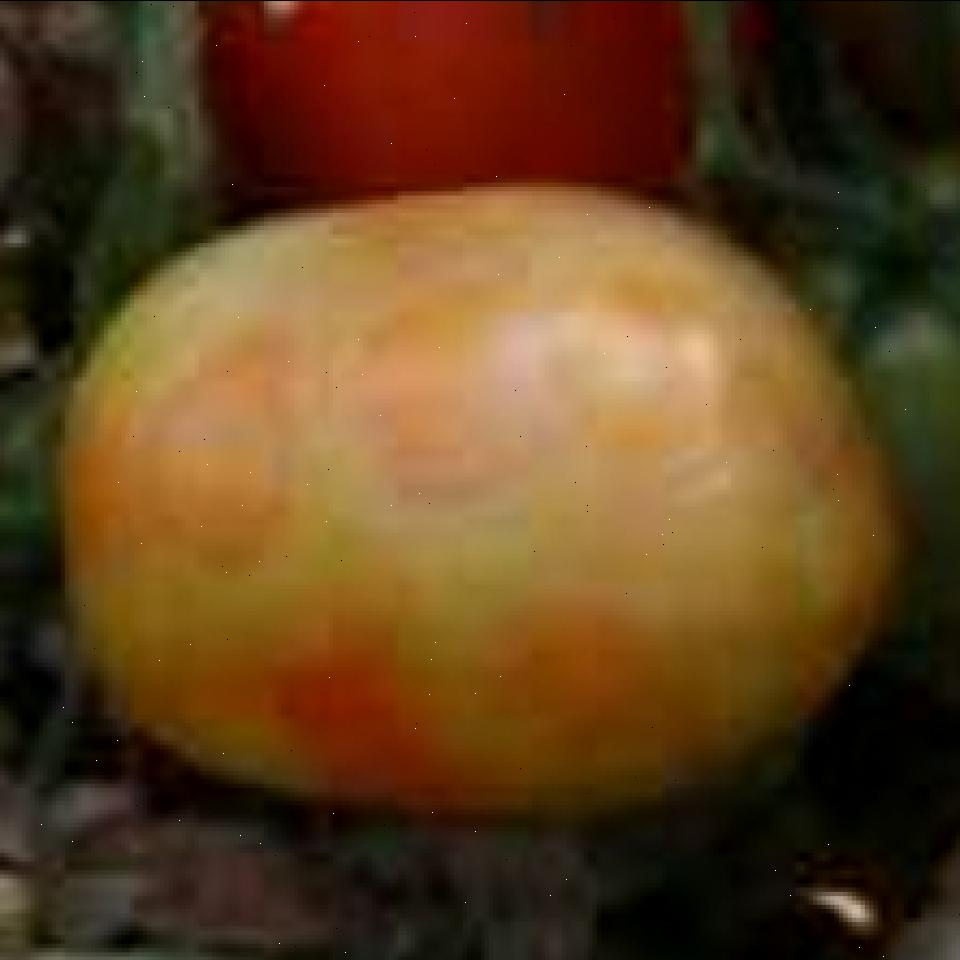Spotted wilt Virus: (54, 182, 903, 820)
